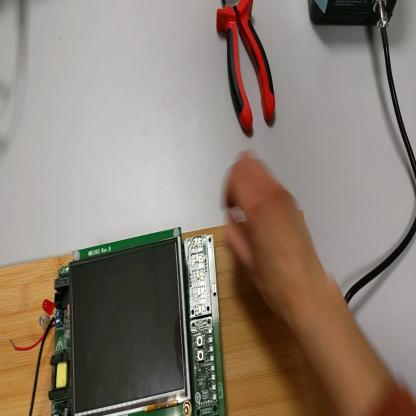hand: (225, 154, 321, 325)
low voltage board: (10, 228, 227, 416)
pliers: (216, 1, 277, 136)
welder station: (309, 2, 397, 27)
working area: (1, 212, 330, 416)
